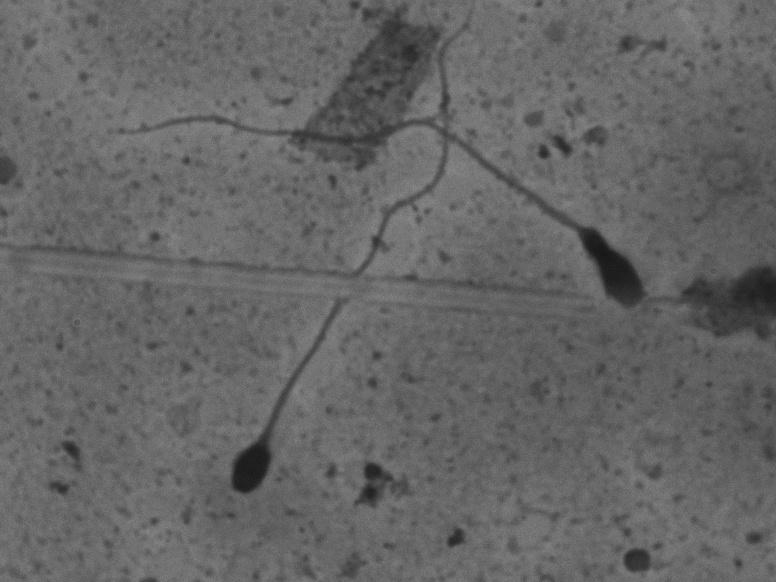Abnormal: (94, 109, 652, 318)
Normal: (217, 8, 494, 505)
